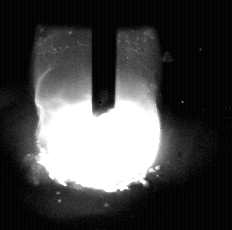arame: (93, 0, 117, 112)
poca: (37, 0, 159, 230)
